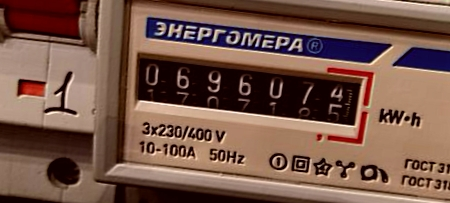0: (142, 60, 163, 87), (267, 73, 286, 101)
4: (329, 80, 346, 103)
5: (327, 102, 343, 123)
6: (173, 63, 194, 90), (236, 69, 255, 98)
7: (298, 78, 317, 106)
9: (204, 67, 224, 95)
screen: (124, 38, 378, 146)
